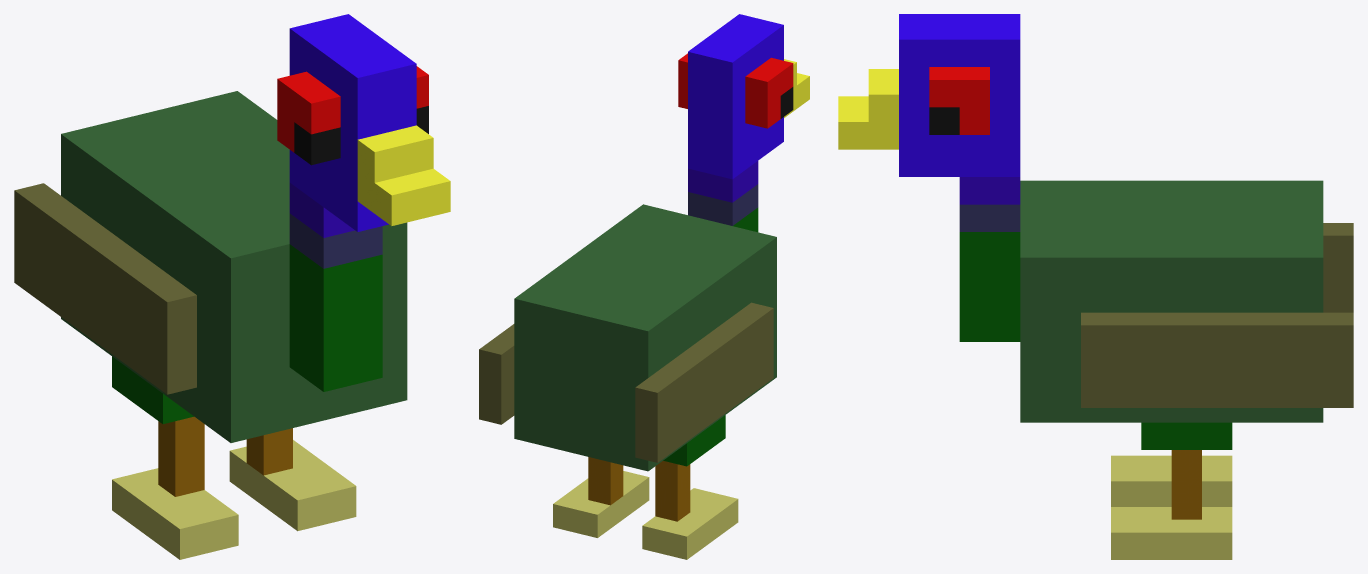
Rendered from pheasant.glb.
The picture shows the model from 3 angles, left to right: view 1: azimuth 30°, elevation 25°; view 2: azimuth 150°, elevation 25°; view 3: azimuth 270°, elevation 25°; orthographic projection. The views are drawn at different scales.
Visible parts, largest first — view 1: Node; view 2: Node; view 3: Node.
Boxes of the visible parts, x1,y1,x2,y2 form: Node: [14, 14, 450, 559]; Node: [479, 14, 809, 559]; Node: [838, 14, 1353, 559].
Bounding box in the file's own units: 0.8 × 1.8 × 1.7.
1 material, 1 textured.
